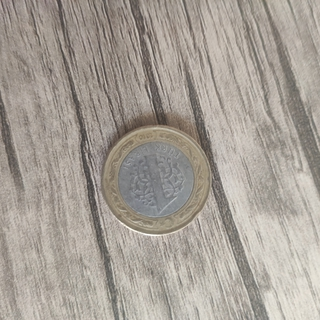1TL: (99, 122, 213, 237)
